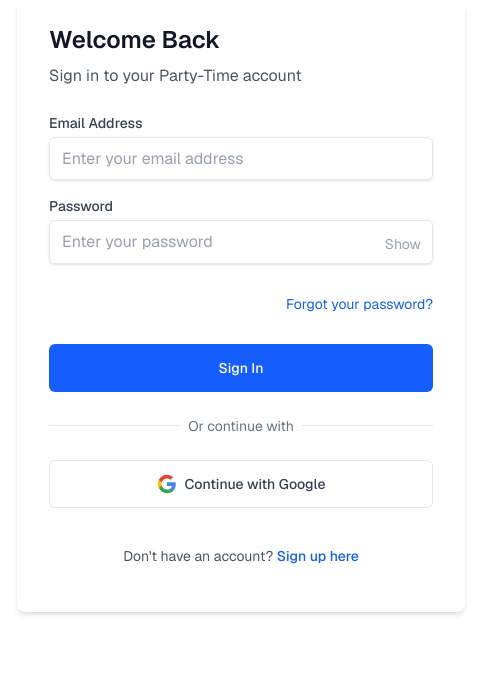
Test: LoginForm › shows validation errors for empty fields
The image size is (483, 681).
Click the button "Sign In" at (241, 368), box [49,344,433,392]
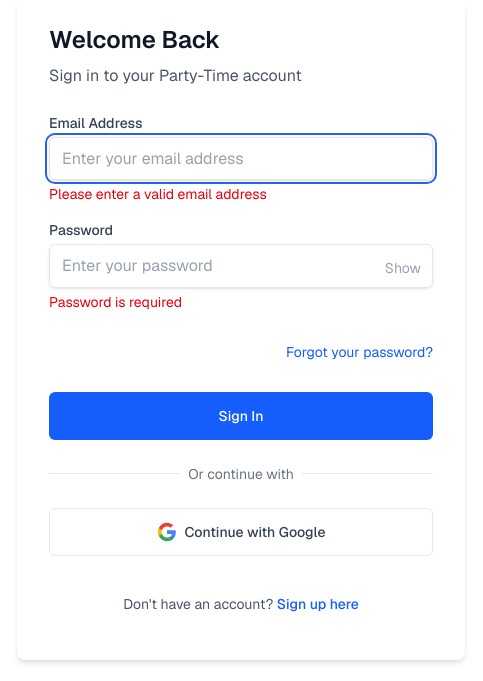
Now the text "Please enter a valid email address" is shown, box [49,185,267,203]
Now the text "Password is required" is shown, box [49,293,182,311]
